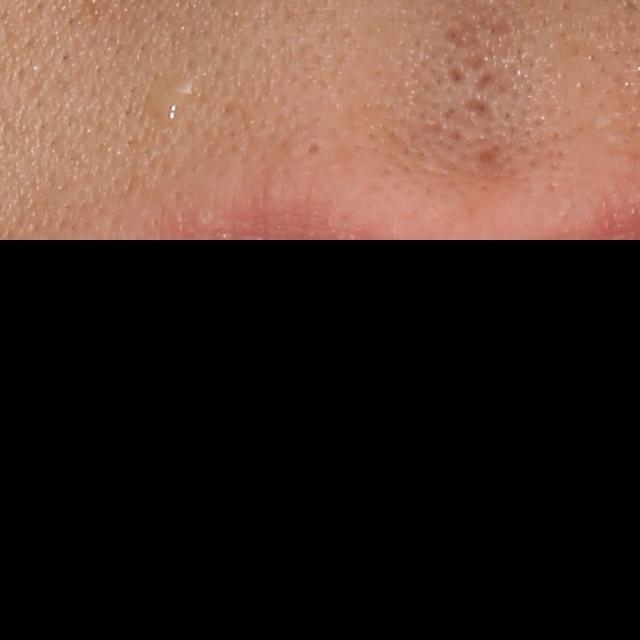atrophic_scar: (440, 8, 514, 87), (460, 97, 498, 124), (473, 68, 501, 91), (477, 149, 500, 165)
comedo: (303, 136, 325, 161)
